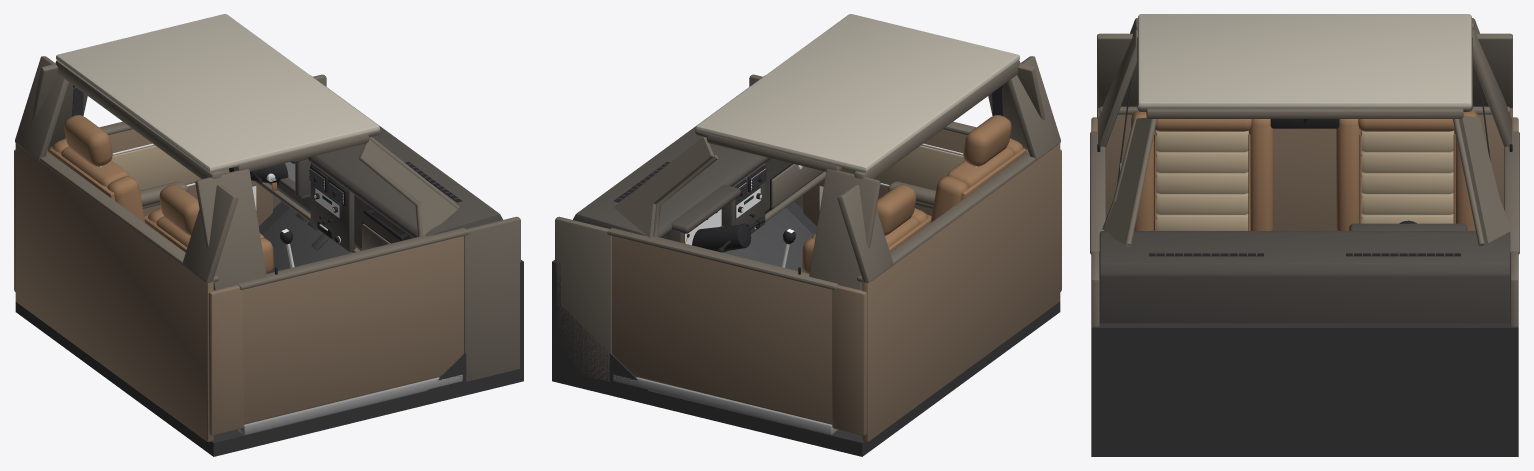
The model's file is interior.glb.
3 views of the same model, side by side, from view 1: azimuth 30°, elevation 25°; view 2: azimuth 150°, elevation 25°; view 3: azimuth 270°, elevation 25° (orthographic). The views are drawn at different scales.
Visible parts, largest first — view 1: Cab; view 2: Cab; view 3: Cab.
Part boxes in pixels (left/top/right/bottom): Cab: left=14, top=14, right=523, bottom=456; Cab: left=552, top=14, right=1061, bottom=456; Cab: left=1090, top=14, right=1519, bottom=456.
Bounding box in the file's own units: 1.43 × 1.17 × 1.57.
